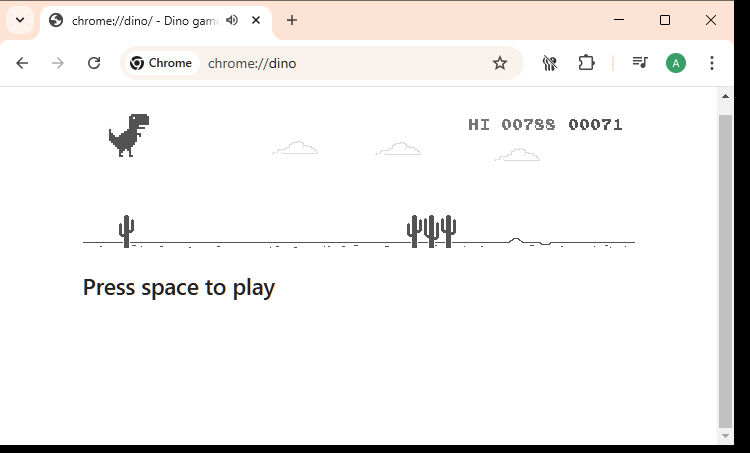cactus: (422, 214, 440, 249), (440, 213, 457, 249), (406, 214, 423, 249), (118, 214, 135, 248)
dino: (108, 113, 150, 158)
